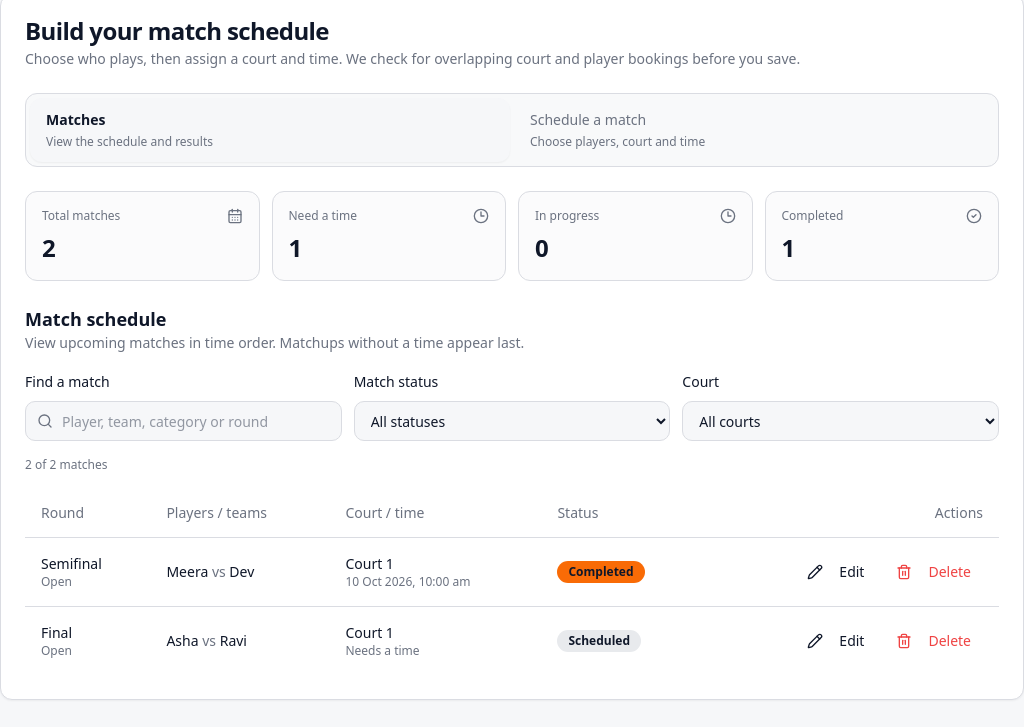
Test: match scheduling usability › shows every player's status for the selected round
Click the tab "Schedule a match Choose players, court and time". click: click(588, 120)
box: [514,98,994,162]
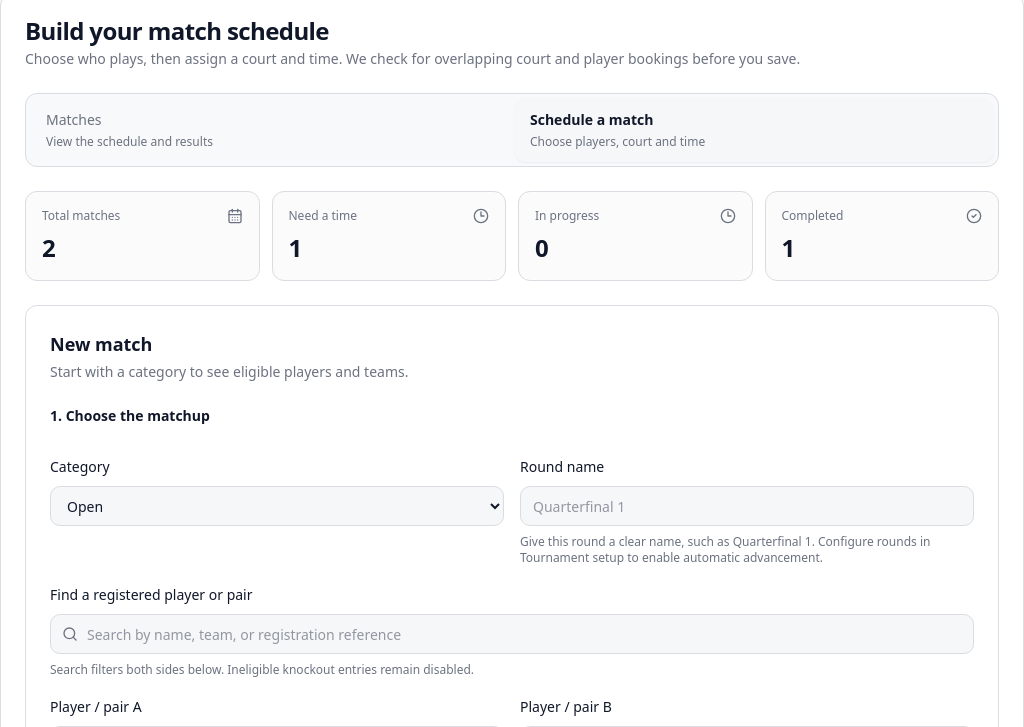
Type "Final" into the field labelled "Round name". click: (747, 506)
box: [520,486,974,526]
(page scrolled)
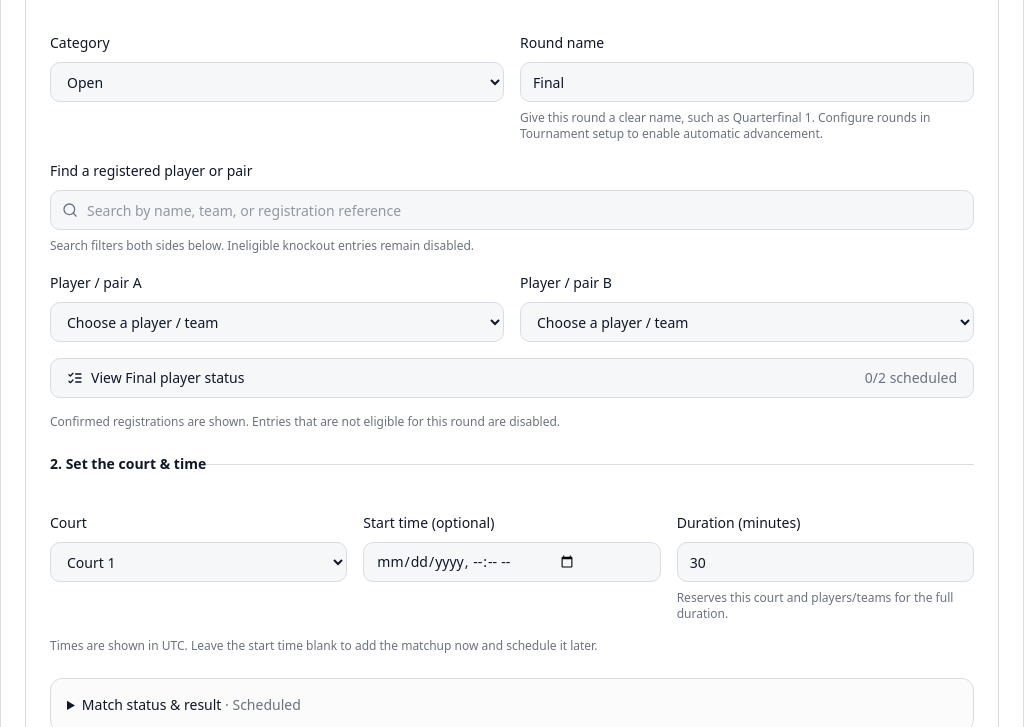
Click the button "View Final player status 0/2 scheduled". click: click(108, 378)
box: [50,358,974,398]
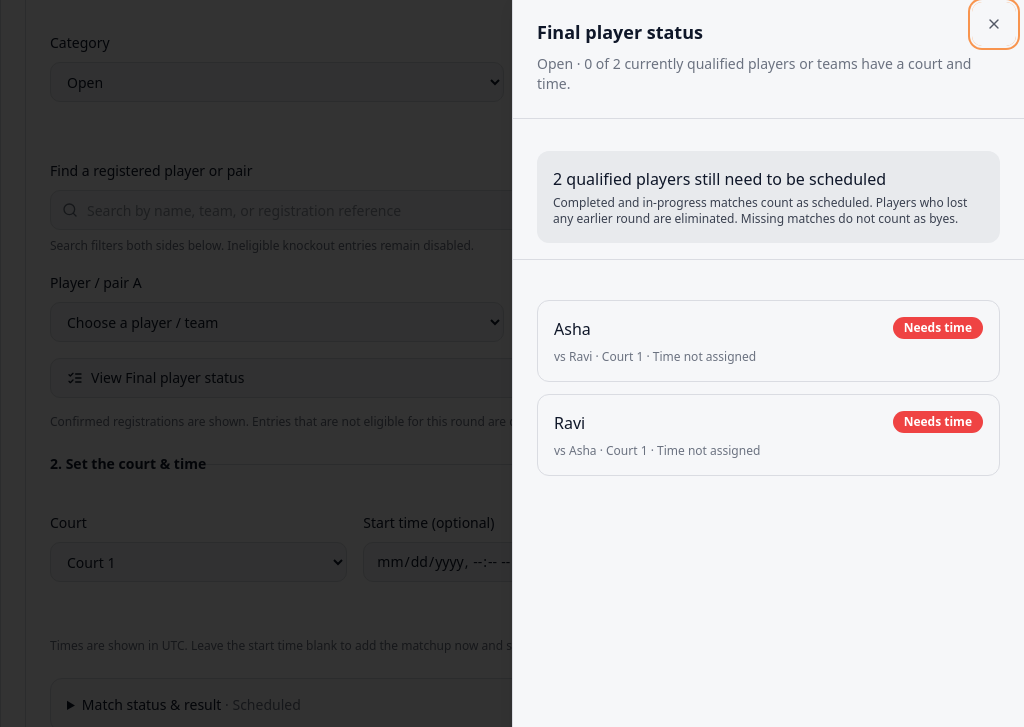
Expected: the text "Asha" is shown, [554,317,591,341]
Expected: the text "Ravi" is shown, [554,411,585,435]
Expected: the text "Needs time" is shown 2 times, [893,317,983,339]; [893,411,983,433]
